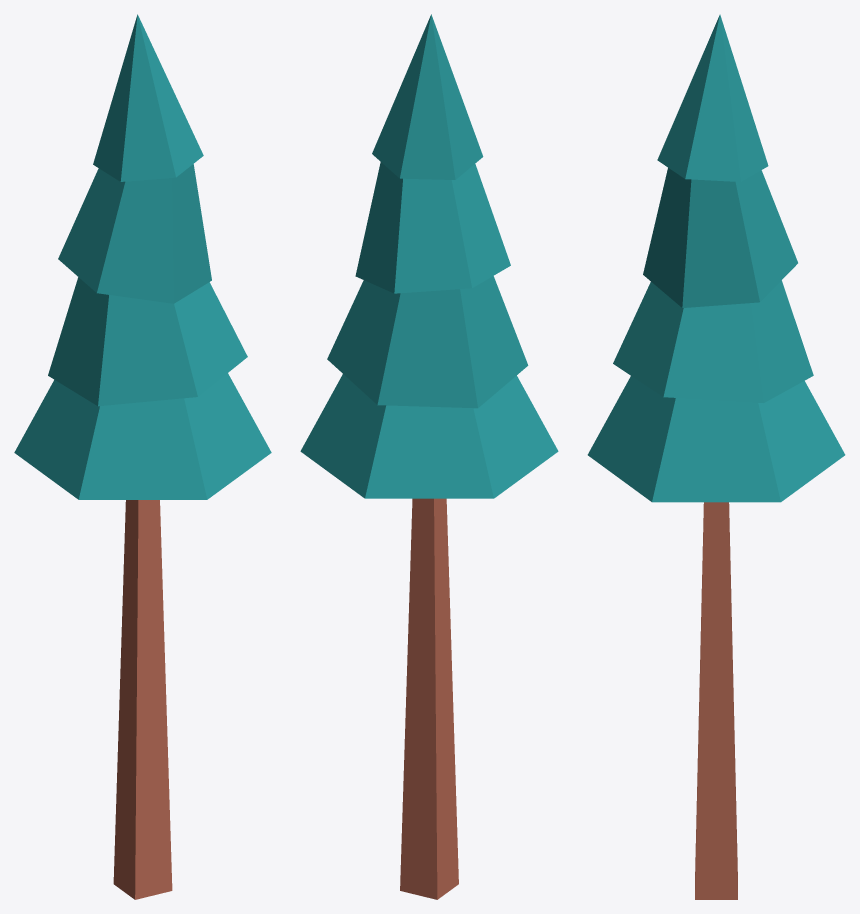
File: tree-pine-tall-d.glb
3 views of the same model, side by side, from view 1: azimuth 30°, elevation 25°; view 2: azimuth 150°, elevation 25°; view 3: azimuth 270°, elevation 25° (orthographic).
Parts seen in each view (by area): view 1: tree_pineTallD; view 2: tree_pineTallD; view 3: tree_pineTallD.
Part boxes in pixels (x1,y1,x2,y2): tree_pineTallD: (14, 14, 271, 899); tree_pineTallD: (300, 14, 558, 899); tree_pineTallD: (587, 14, 845, 899).
Size of the model in its own units: 0.4804 by 2.08 by 0.5547.
